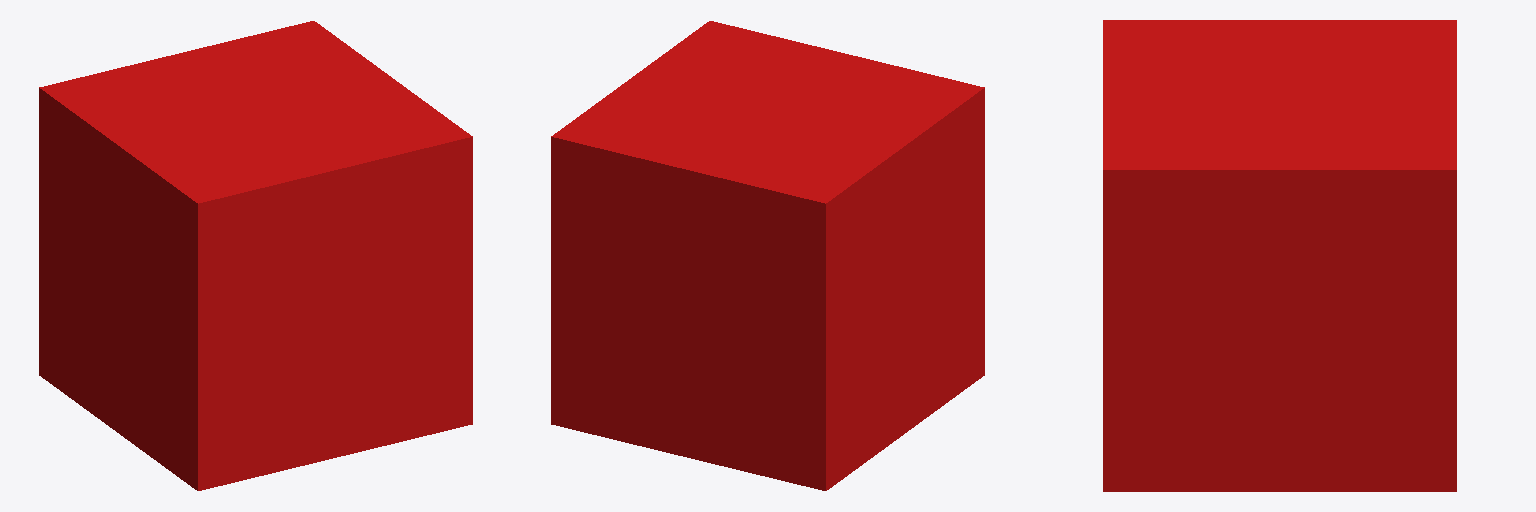
URDF robot description (red_cube):
<?xml version="1.0"?>
<robot name="red_cube">
  <link name="base_link">
    <contact>
      <lateral_friction value="0.9"/>
      <rolling_friction value="0.03"/>
      <spinning_friction value="0.03"/>
      <restitution value="0.0"/>
    </contact>
    <inertial>
      <origin rpy="0 0 0" xyz="0 0 0"/>
      <mass value="0.5"/>
      <inertia ixx="0.001" ixy="0" ixz="0" iyy="0.001" iyz="0" izz="0.001"/>
    </inertial>
    <visual>
      <origin rpy="0 0 0" xyz="0 0 0"/>
      <geometry>
        <box size="0.12 0.12 0.12"/>
      </geometry>
      <material name="red">
        <color rgba="0.850 0.120 0.120 1.000"/>
      </material>
    </visual>
    <collision>
      <origin rpy="0 0 0" xyz="0 0 0"/>
      <geometry>
        <box size="0.12 0.12 0.12"/>
      </geometry>
    </collision>
  </link>
</robot>

--- Facts derived from the render (not from the file) ---
3 views of the same robot in one strip: view 1: azimuth 30°, elevation 25°; view 2: azimuth 150°, elevation 25°; view 3: azimuth 270°, elevation 25° (orthographic).
Model red_cube with 1 links and 0 joints (none), rooted at base_link, posed every joint at zero.
Visible links, largest first — view 1: base_link; view 2: base_link; view 3: base_link.
Boxes of the visible links, left/top/right/bottom form: base_link: left=39, top=21, right=472, bottom=490; base_link: left=551, top=21, right=984, bottom=490; base_link: left=1103, top=20, right=1456, bottom=491.
Bounding box of the posed robot: 0.12 × 0.12 × 0.12 m (x, y, z).
Geometry: primitives only (box / cylinder / sphere), no mesh files.
